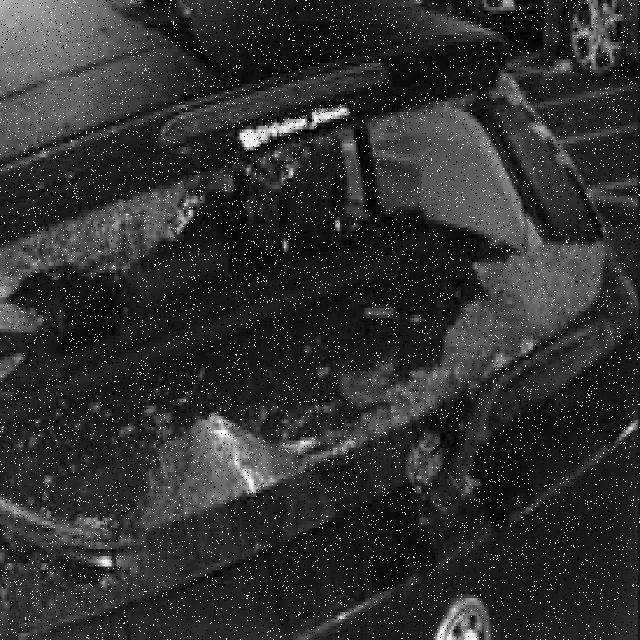Rear-windscreen-Damage: (0, 62, 636, 588)
